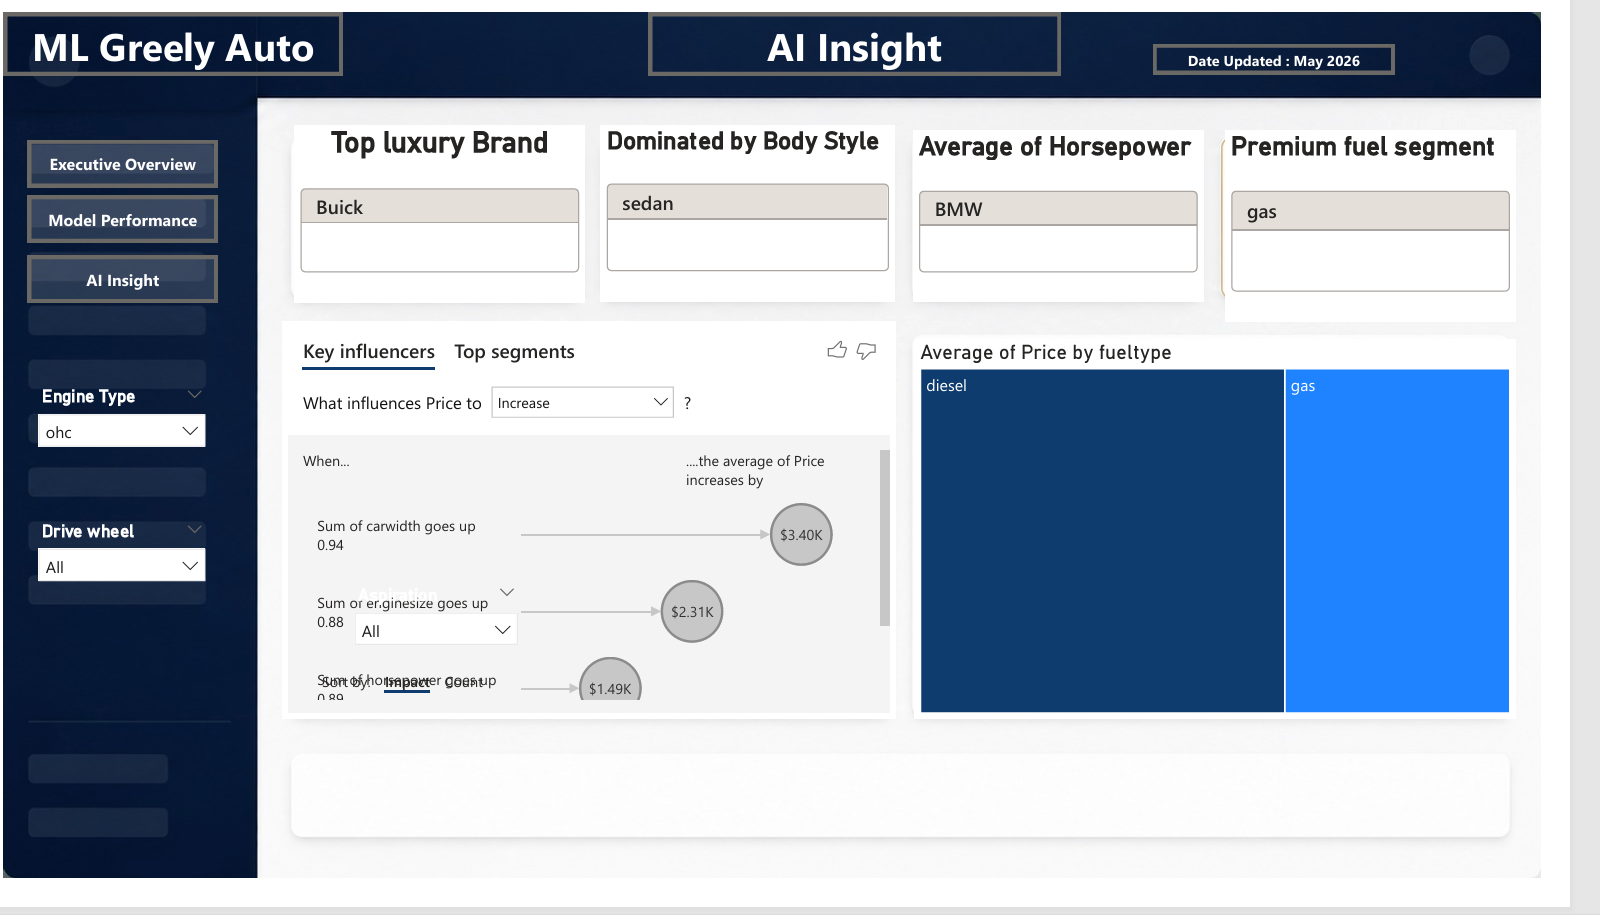

This screenshot's page, from the dashboard's own definition file:
{"tool":"powerbi","page":{"name":"AI Insight","canvas":[1280,720],"ordinal":2},"visuals":[{"type":"cardVisual","title":"Dominated by Body Style","fields":{"Rows":["Car_Price_Final_Labels.carbody"]},"box":[496.7,93.9,245.3,146.9],"z":0},{"type":"cardVisual","title":"Top luxury Brand","fields":{"Rows":["Car_Price_Final_Labels.Brand"]},"box":[241.9,94.5,241.9,147.4],"z":1000},{"type":"cardVisual","title":"Premium fuel segment","fields":{"Rows":["Car_Price_Final_Labels.fueltype"]},"box":[1016.7,98.3,241.9,158.7],"z":2000},{"type":"cardVisual","title":"Average of Horsepower","fields":{"Rows":["Car_Price_Final_Labels.Brand"]},"box":[757.1,98.4,242.3,142.3],"z":3000},{"type":"treemap","fields":{"Values":["Avg(Car_Price_Final_Labels.Price)"],"Details":["Car_Price_Final_Labels.fueltype"]},"box":[757.8,272.1,500.8,315.6],"z":4000},{"type":"keyDriversVisual","fields":{"Target":["Car_Price_Final_Labels.Price"],"ExplainBy":["Sum(Car_Price_Final_Labels.enginesize)","Sum(Car_Price_Final_Labels.horsepower)","Sum(Car_Price_Final_Labels.carwidth)","Car_Price_Final_Labels.fueltype"]},"box":[232.4,257,510.2,330.7],"z":5000},{"type":"actionButton","box":[19.5,106.2,158.2,39],"z":6000},{"type":"actionButton","box":[19.5,151.7,158.2,39],"z":7000},{"type":"actionButton","box":[19.5,201.5,158.2,39],"z":8000},{"type":"actionButton","box":[0,0,281.7,52],"z":9000},{"type":"actionButton","box":[537.4,0,342.4,52],"z":10000},{"type":"slicer","fields":{"Values":["Car_Price_Final_Labels.enginetype"]},"box":[18.9,306.1,158.7,77.5],"z":11000},{"type":"slicer","fields":{"Values":["Car_Price_Final_Labels.drivewheel"]},"box":[18.9,417.6,158.7,88.8],"z":12000},{"type":"actionButton","box":[957,25.7,201.4,25.7],"z":13000},{"type":"slicer","fields":{"Values":["Car_Price_Final_Labels.aspiration"]},"box":[281.6,470.6,156.9,69.9],"z":14000}]}

Visuals, with their boxes on the page's 1280x720 design canvas (x1, y1, x2, y2). These are canvas units, not pixel positions in the 1600x916 screenshot, which may show the page scaled, cropped or inside an application window:
"Dominated by Body Style" cardVisual: {"left": 497, "top": 94, "right": 742, "bottom": 241}
"Top luxury Brand" cardVisual: {"left": 242, "top": 94, "right": 484, "bottom": 242}
"Premium fuel segment" cardVisual: {"left": 1017, "top": 98, "right": 1259, "bottom": 257}
"Average of Horsepower" cardVisual: {"left": 757, "top": 98, "right": 999, "bottom": 241}
treemap - Avg(Car_Price_Final_Labels.Price) x Car_Price_Final_Labels.fueltype: {"left": 758, "top": 272, "right": 1259, "bottom": 588}
keyDriversVisual - Car_Price_Final_Labels.Price x Sum(Car_Price_Final_Labels.enginesize): {"left": 232, "top": 257, "right": 743, "bottom": 588}
actionButton: {"left": 20, "top": 106, "right": 178, "bottom": 145}
actionButton: {"left": 20, "top": 152, "right": 178, "bottom": 191}
actionButton: {"left": 20, "top": 202, "right": 178, "bottom": 240}
actionButton: {"left": 0, "top": 0, "right": 282, "bottom": 52}
actionButton: {"left": 537, "top": 0, "right": 880, "bottom": 52}
slicer - Car_Price_Final_Labels.enginetype: {"left": 19, "top": 306, "right": 178, "bottom": 384}
slicer - Car_Price_Final_Labels.drivewheel: {"left": 19, "top": 418, "right": 178, "bottom": 506}
actionButton: {"left": 957, "top": 26, "right": 1158, "bottom": 51}
slicer - Car_Price_Final_Labels.aspiration: {"left": 282, "top": 471, "right": 438, "bottom": 540}
